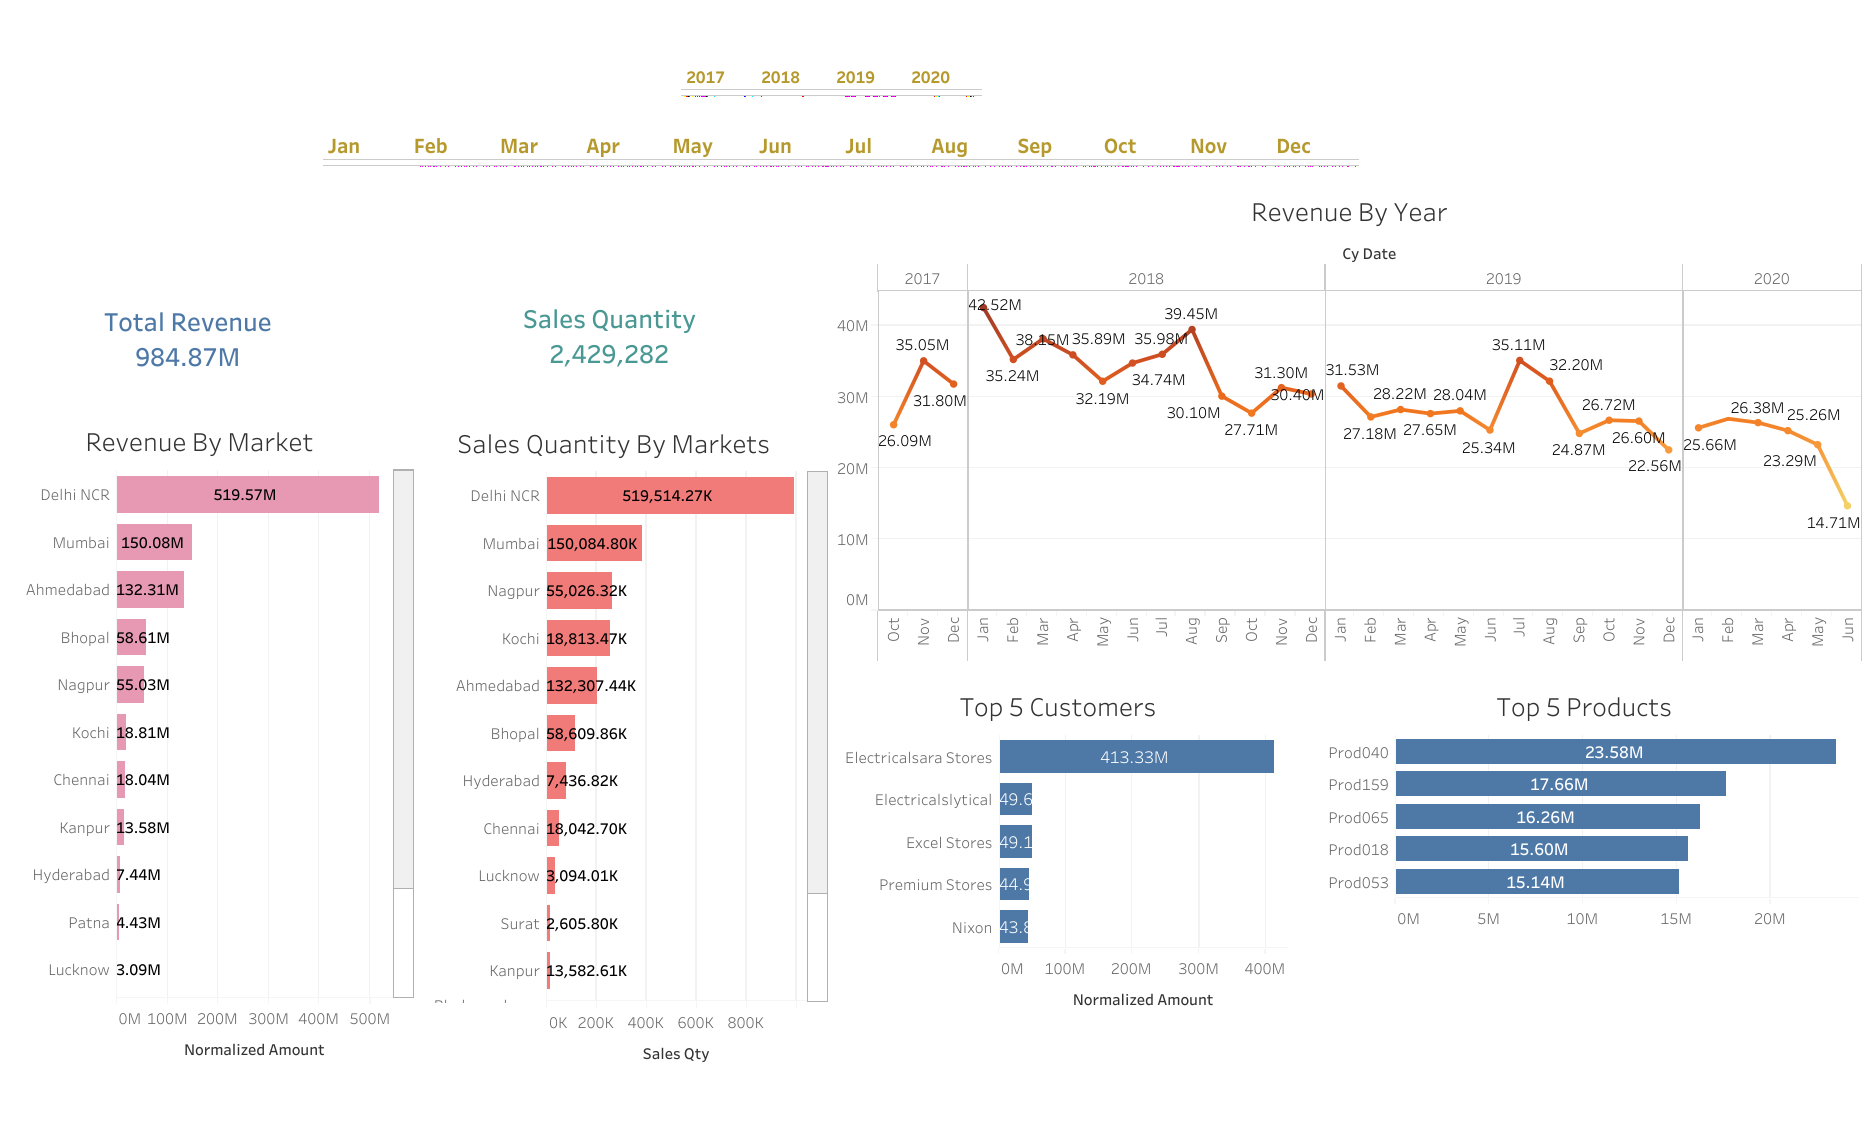

This screenshot's page, from the dashboard's own definition file:
{"tool":"tableau","page":{"name":"Dashboard -Revenue Analysis","canvas":[1500,900],"ordinal":1},"visuals":[{"type":"worksheet","title":"Year","mark":"Automatic","cols":["cy_date"],"box":[545,35,246,51]},{"type":"worksheet","title":"Month","mark":"Automatic","cols":["cy_date"],"box":[258,88,839,57]},{"type":"worksheet","title":"Revenue By Year","mark":"Automatic","rows":["Calculation_1582452383589834756"],"cols":["cy_date","cy_date"],"box":[669,149,821,380]},{"type":"worksheet","title":"Quantity","mark":"Automatic","box":[378,225,253,99]},{"type":"worksheet","title":"Revenue","mark":"Automatic","box":[71,227,230,102]},{"type":"worksheet","title":"Revenue By Market","mark":"Automatic","rows":["markets_name"],"cols":["Calculation_1582452383589834756"],"box":[5,333,327,522]},{"type":"worksheet","title":"Sales Quantity By Markets ","mark":"Automatic","rows":["markets_name"],"cols":["sales_qty"],"box":[337,334,326,524]},{"type":"worksheet","title":"Top 5 Customers","mark":"Automatic","rows":["custmer_name"],"cols":["Calculation_1582452383589834756"],"box":[663,545,367,310]},{"type":"worksheet","title":"Top 5 Products","mark":"Automatic","rows":["product_code (products)"],"cols":["Calculation_1582452383589834756"],"box":[1048,545,439,312]}]}

Visuals, with their boxes in screenshot pixels (x1, y1, x2, y2), scaled from the page's 1500x900 canvas onto the 1875x1125 screenshot:
"Year" worksheet: BBox(681, 44, 989, 108)
"Month" worksheet: BBox(322, 110, 1371, 181)
"Revenue By Year" worksheet: BBox(836, 186, 1862, 661)
"Quantity" worksheet: BBox(472, 281, 789, 405)
"Revenue" worksheet: BBox(89, 284, 376, 411)
"Revenue By Market" worksheet: BBox(6, 416, 415, 1069)
"Sales Quantity By Markets " worksheet: BBox(421, 418, 829, 1072)
"Top 5 Customers" worksheet: BBox(829, 681, 1288, 1069)
"Top 5 Products" worksheet: BBox(1310, 681, 1859, 1071)
